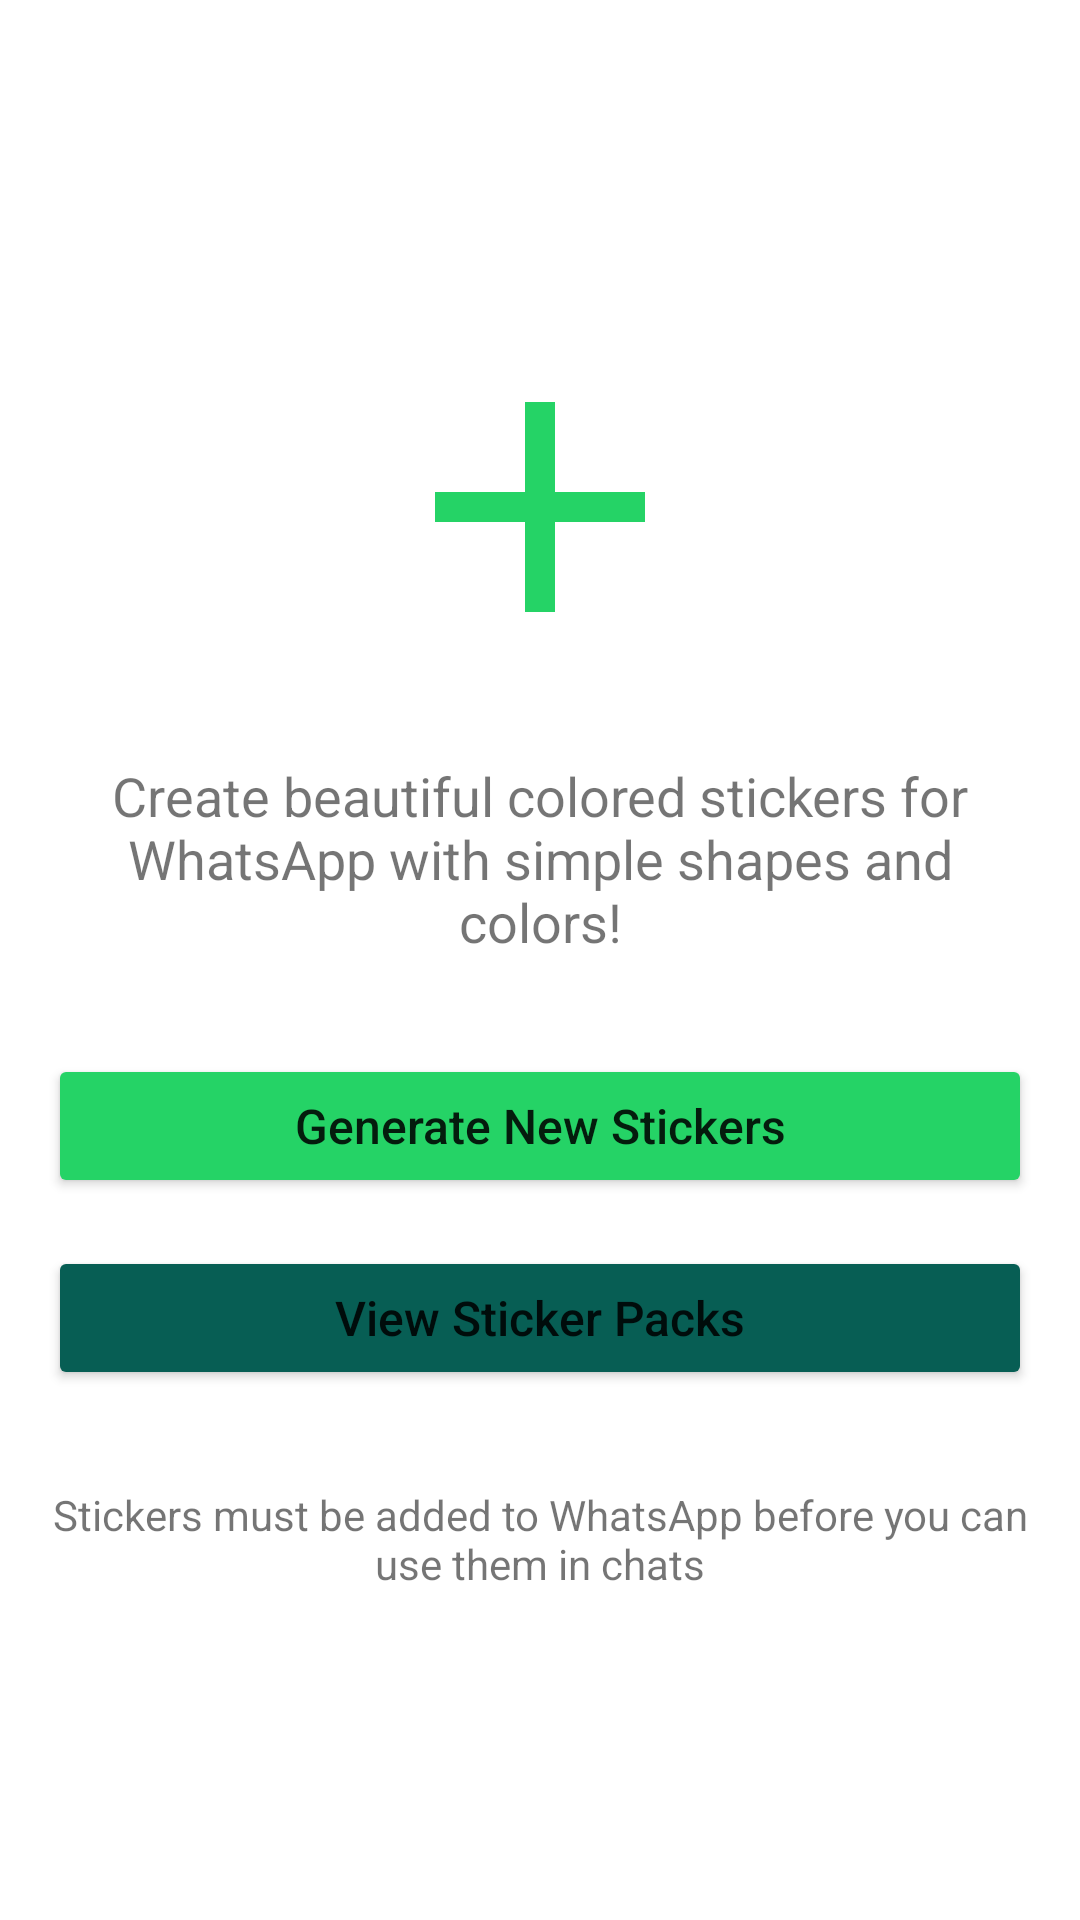

Point at icon controls on the screen. Image size 1080 x 1920, points as point (x, y).
add: point (540, 507)
